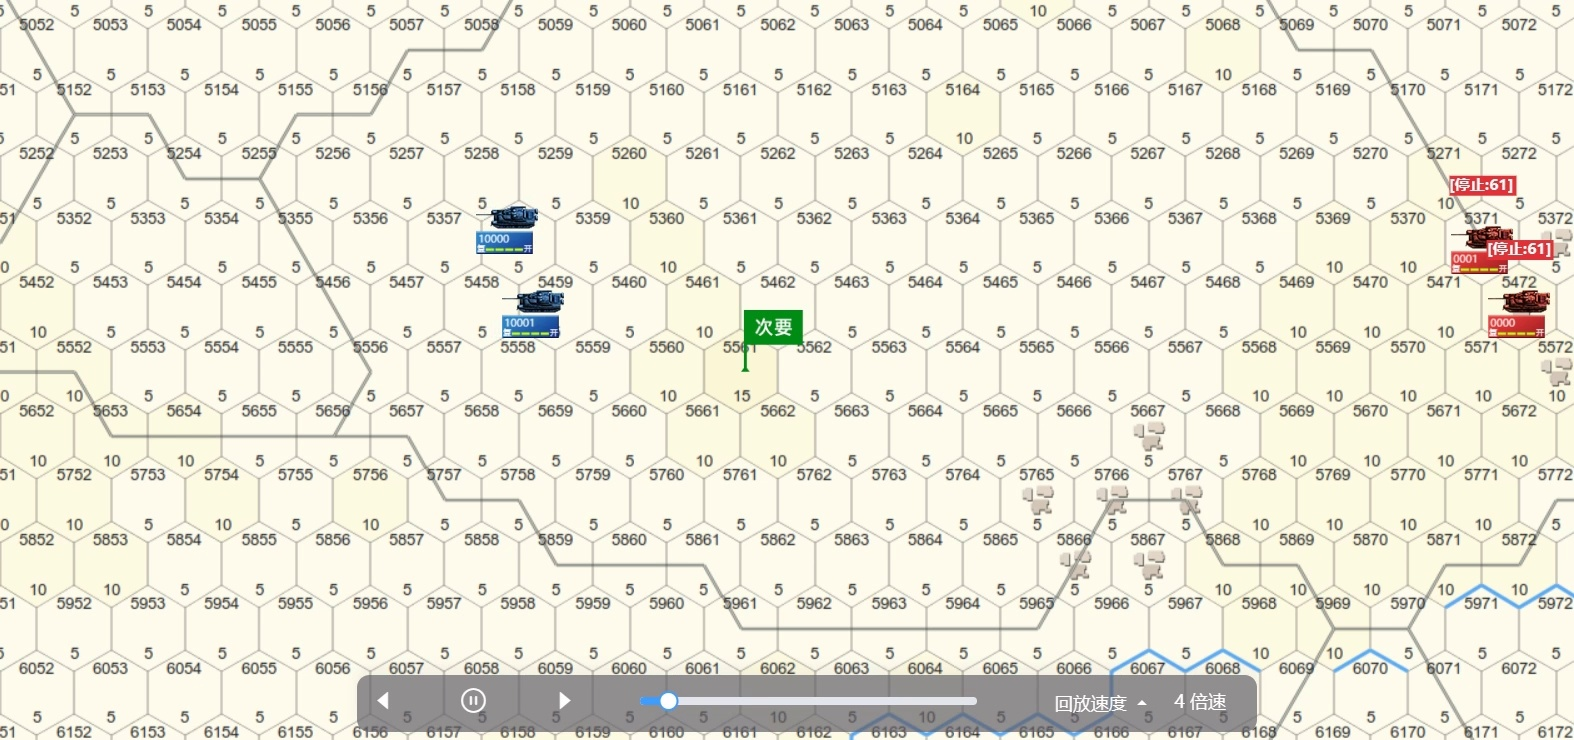blue_tank: (502, 291, 568, 342), (474, 204, 536, 254)
red_tank: (1456, 223, 1515, 272), (1488, 292, 1553, 335)
